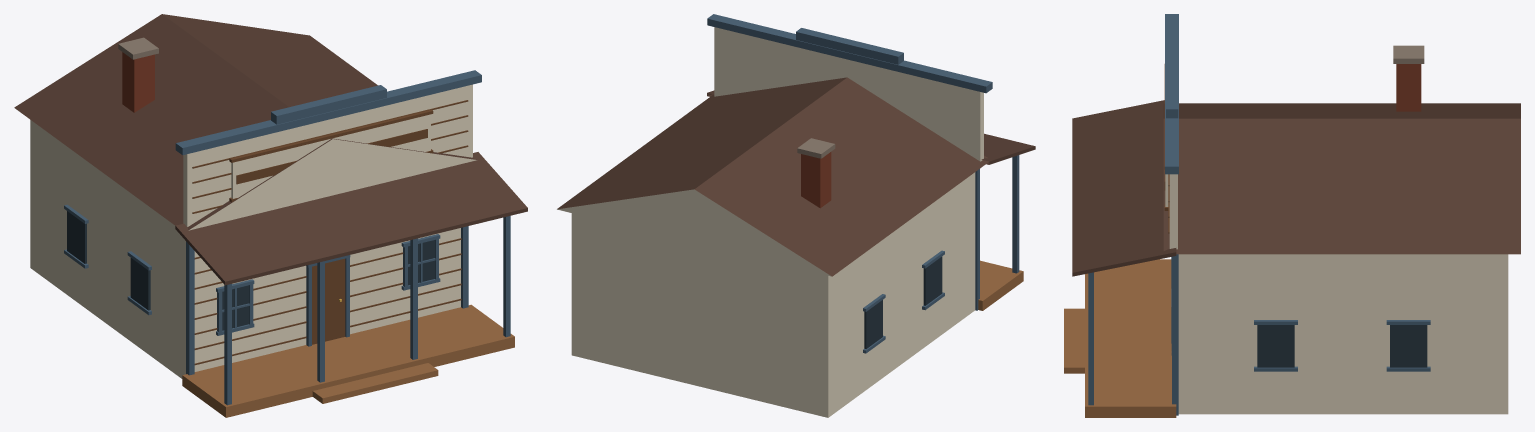
File: SM_Bank.fbx
The picture shows the model from 3 angles, left to right: view 1: azimuth 30°, elevation 25°; view 2: azimuth 150°, elevation 25°; view 3: azimuth 270°, elevation 25°; orthographic projection. The views are drawn at different scales.
Parts seen in each view (by area): view 1: Bank; view 2: Bank; view 3: Bank.
Boxes of the visible parts, x1,y1,x2,y2 form: Bank: (14,14,527,417); Bank: (557,14,1035,417); Bank: (1064,14,1520,417).
Bounding box in the file's own units: 880 × 1100 × 699.
